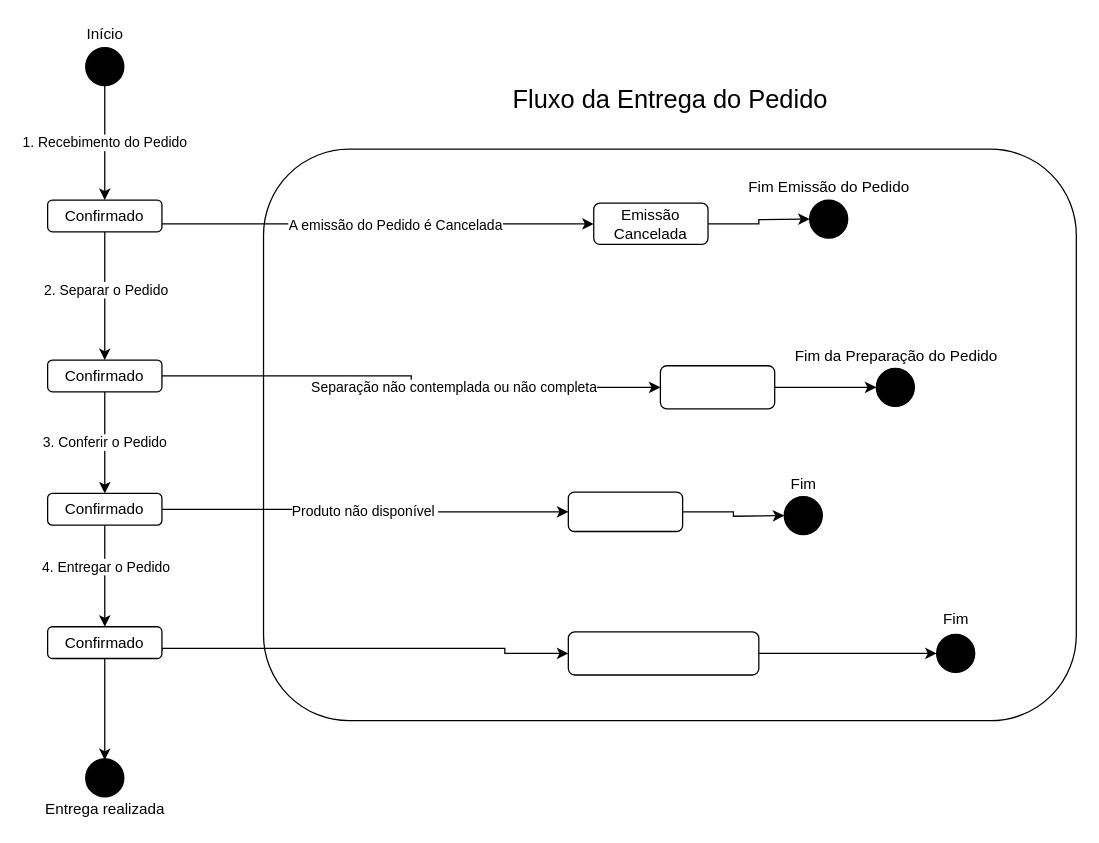
Image size: 1099x843. Some labels were removed from this diagram. The shapes that lost their labels are listed below. From the top down, each one's centre as x and y in pixels, then its label:
point (717, 386): Separação cancelada
point (625, 511): Não disponível no Estoque
point (663, 653): Solicitação Cancelada pela Origem
